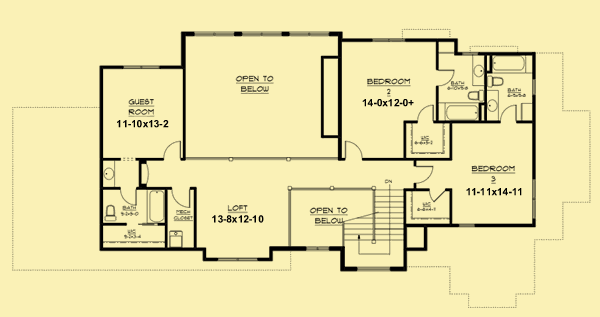door: (170, 186, 193, 208), (412, 164, 435, 186), (434, 67, 456, 88), (119, 187, 139, 208), (161, 140, 183, 159), (499, 103, 518, 125), (343, 140, 362, 161), (416, 105, 436, 123), (425, 186, 446, 203)
large_sink: (103, 204, 120, 225), (466, 88, 488, 104), (487, 73, 505, 91)
small_sink: (472, 54, 486, 87), (487, 91, 500, 122), (101, 160, 115, 188)
stairs: (342, 187, 405, 268)
tub: (491, 53, 526, 74), (443, 102, 481, 121), (146, 188, 165, 223)
window: (191, 31, 335, 37), (530, 176, 538, 220), (122, 64, 162, 72), (217, 257, 262, 263), (302, 245, 331, 253)
